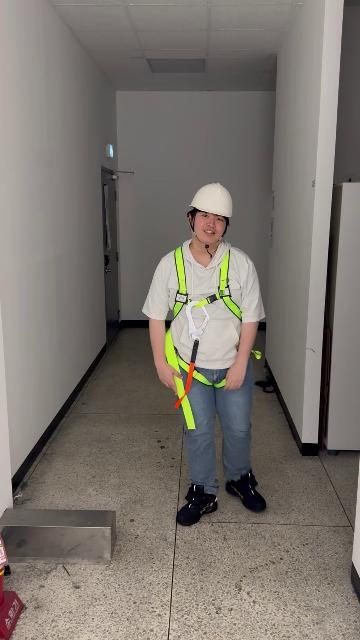helmet_worn: (189, 181, 234, 218)
shoe_worn: (176, 484, 218, 526), (225, 470, 265, 512)
vest_worn: (161, 247, 258, 424)
